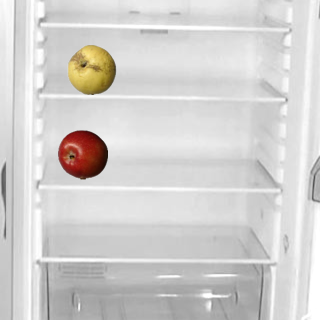Apple Braeburn: (57, 129, 107, 179)
Apple Golden 1: (66, 44, 116, 94)
